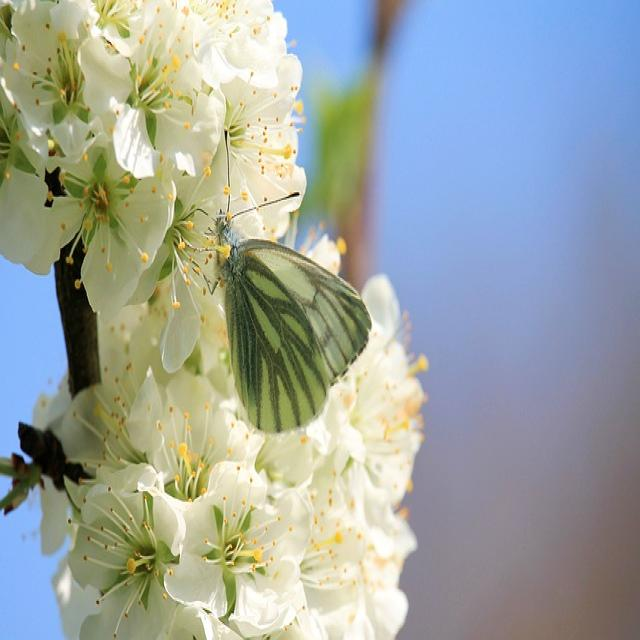butterfly: (202, 194, 373, 436)
